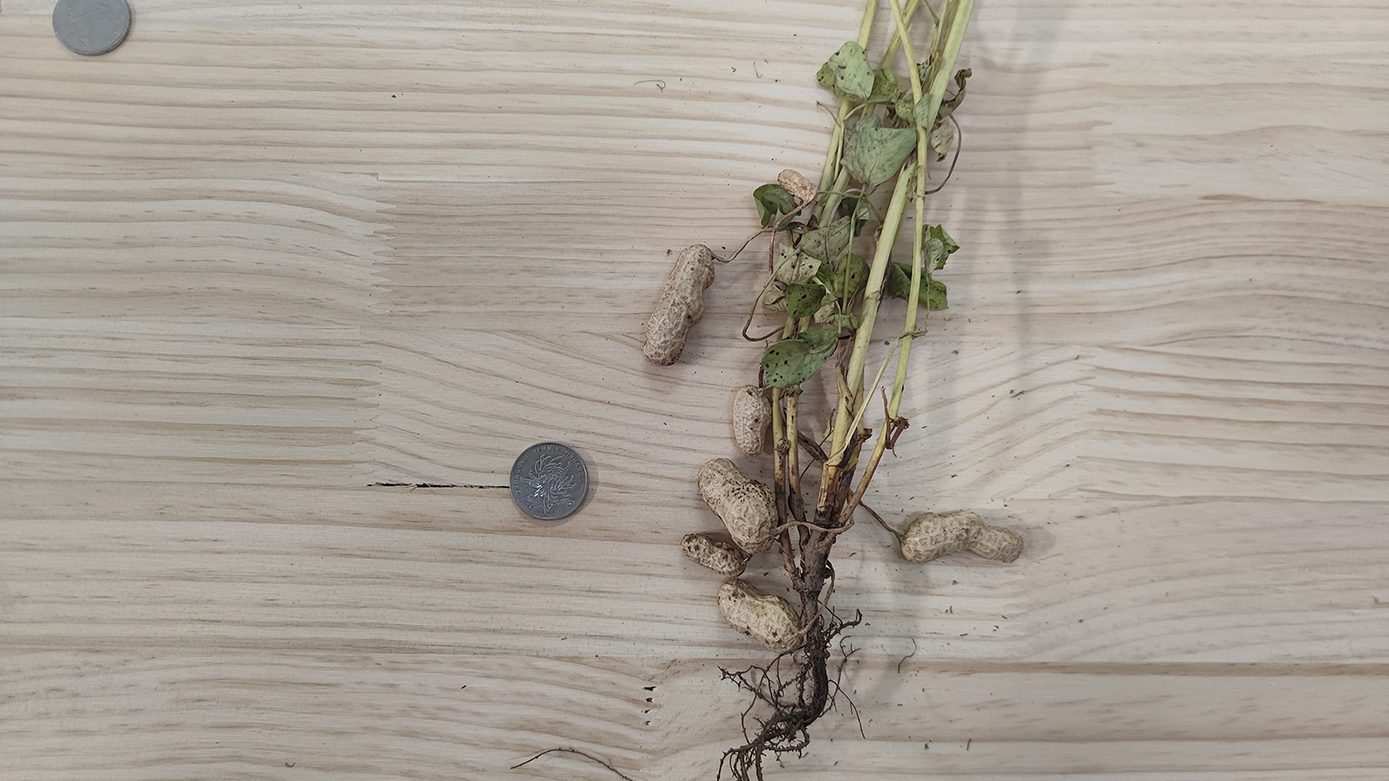h: (641, 244, 713, 365), (695, 457, 778, 554), (899, 511, 1023, 564), (714, 583, 802, 654), (730, 384, 771, 457), (680, 537, 746, 579)
l: (777, 170, 816, 202)
